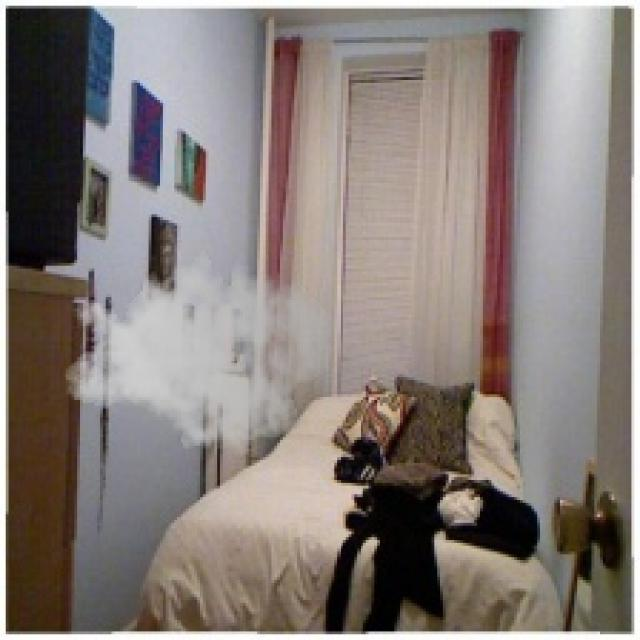smoke: (63, 240, 334, 463)
